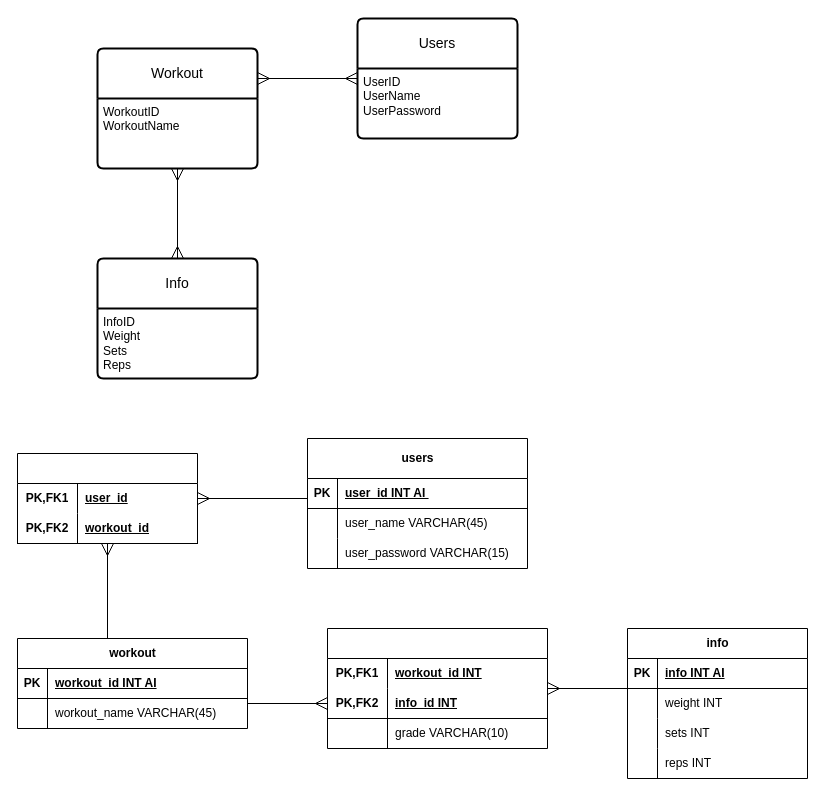
The diagram is 825 pixels wide and 796 high, and some of its shapes have lost their labels. Here are the shapes that lost their labels. From the top down, the box of each, then its label:
(16, 452, 198, 544): users_workout
(326, 628, 548, 748): workout_info
